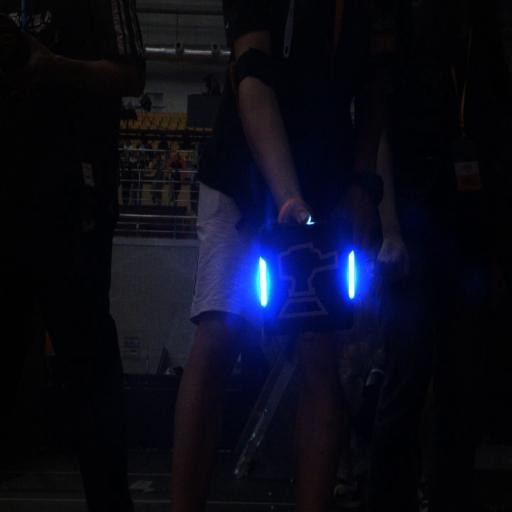target: (256, 224, 362, 334)
